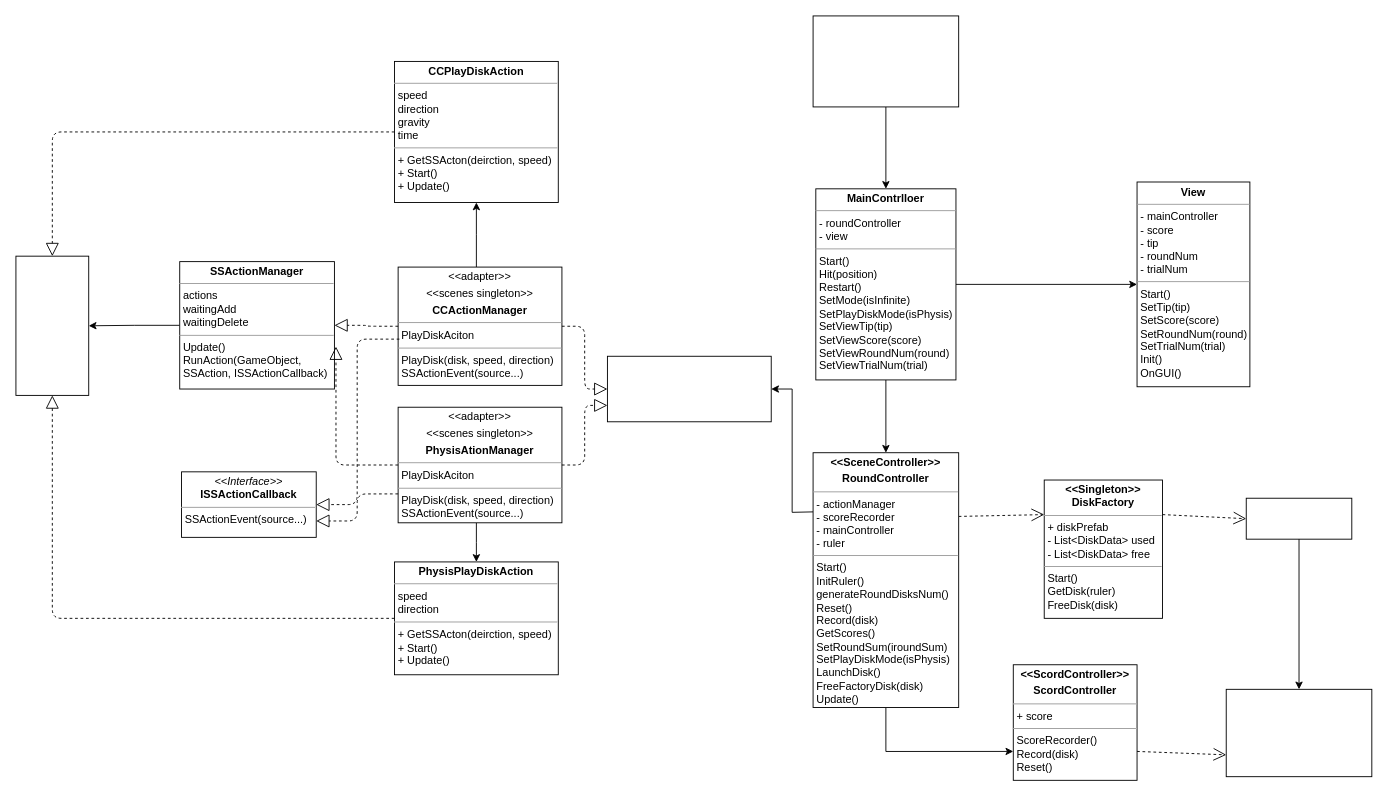
Image size: 1388x796. Some labels were removed from this diagram. The centre of each missing label's shape, as x and y in pixels:
"<<Interface>> IActionManager PlayDisk(disk, speed, direction)" goes at pixel 689 388.
"<<Prefab>> disk:GameObject" goes at pixel 1298 518.
"<<Serialable>> :DiskData:MonoBehaviour size color speed" goes at pixel 1298 732.
"Director - instance + mainController + GetInstance()" goes at pixel 885 61.
"SSAction enable destroy gameObject transform callback Start() Update" goes at pixel 52 325.
